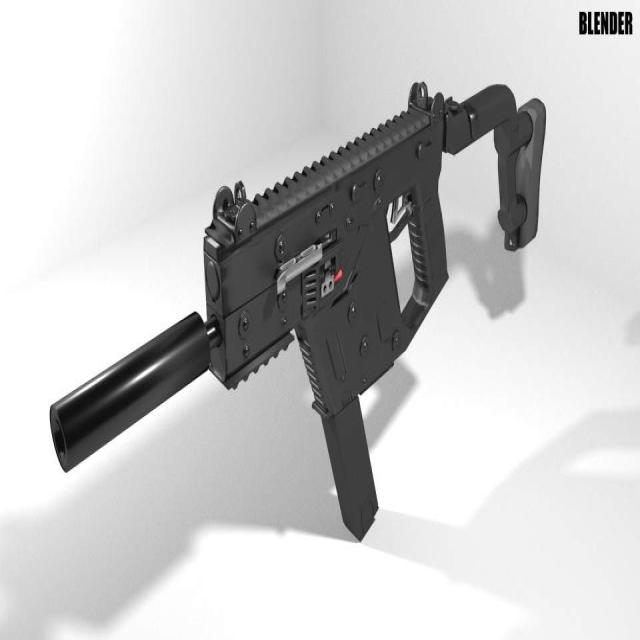SMG: (48, 85, 545, 544)
